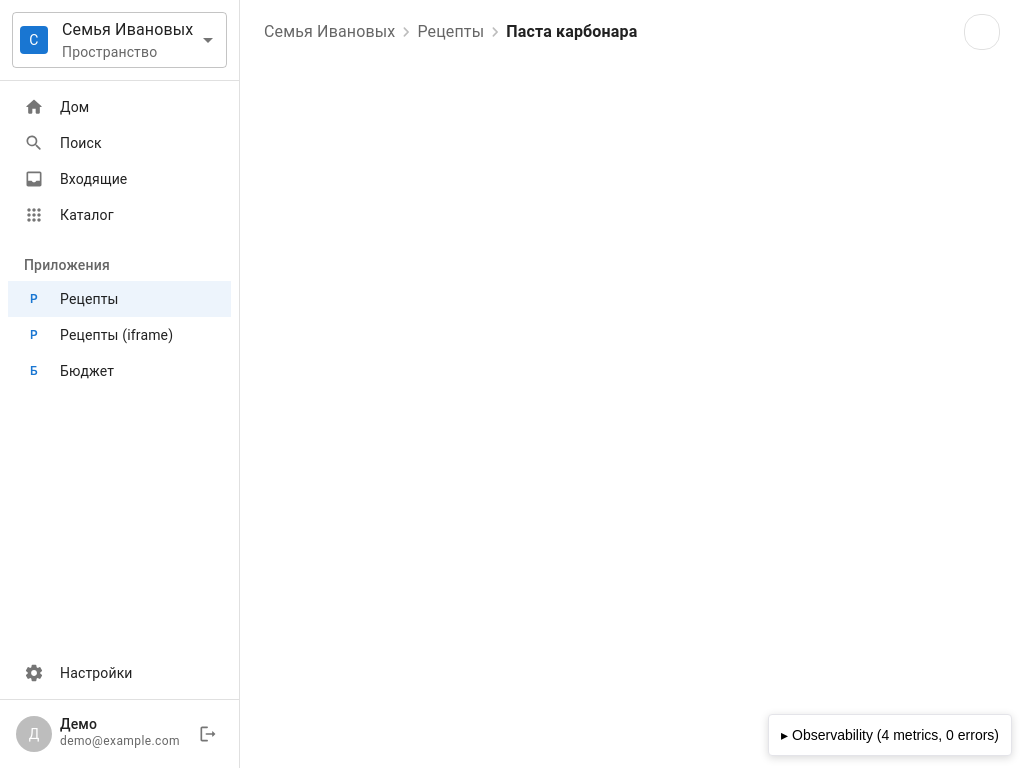
it: HostChrome › shows the app's published breadcrumbs and title after the shell's own links
What coordinates should you click on to do the following:
click the link "Семья Ивановых"
I would click on:
 (330, 32)
Its box is x1=264 y1=22 x2=395 y2=41.
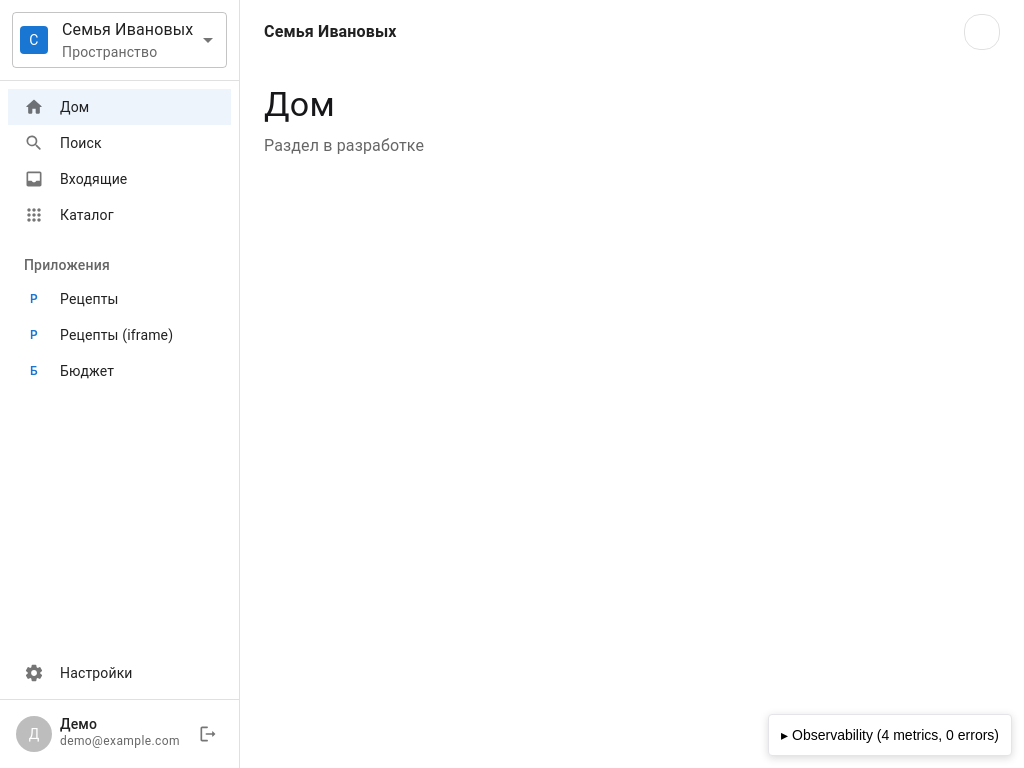
Expected: the navigation bar named "Хлебные крошки" reads "Семья Ивановых", x1=264 y1=22 x2=397 y2=41
